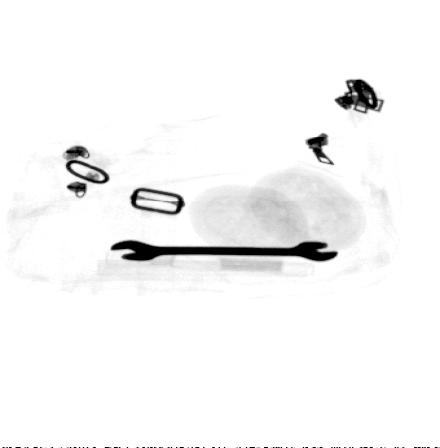Wrench: (110, 239, 339, 262)
